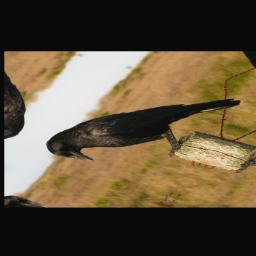Crow: (38, 67, 245, 183)
